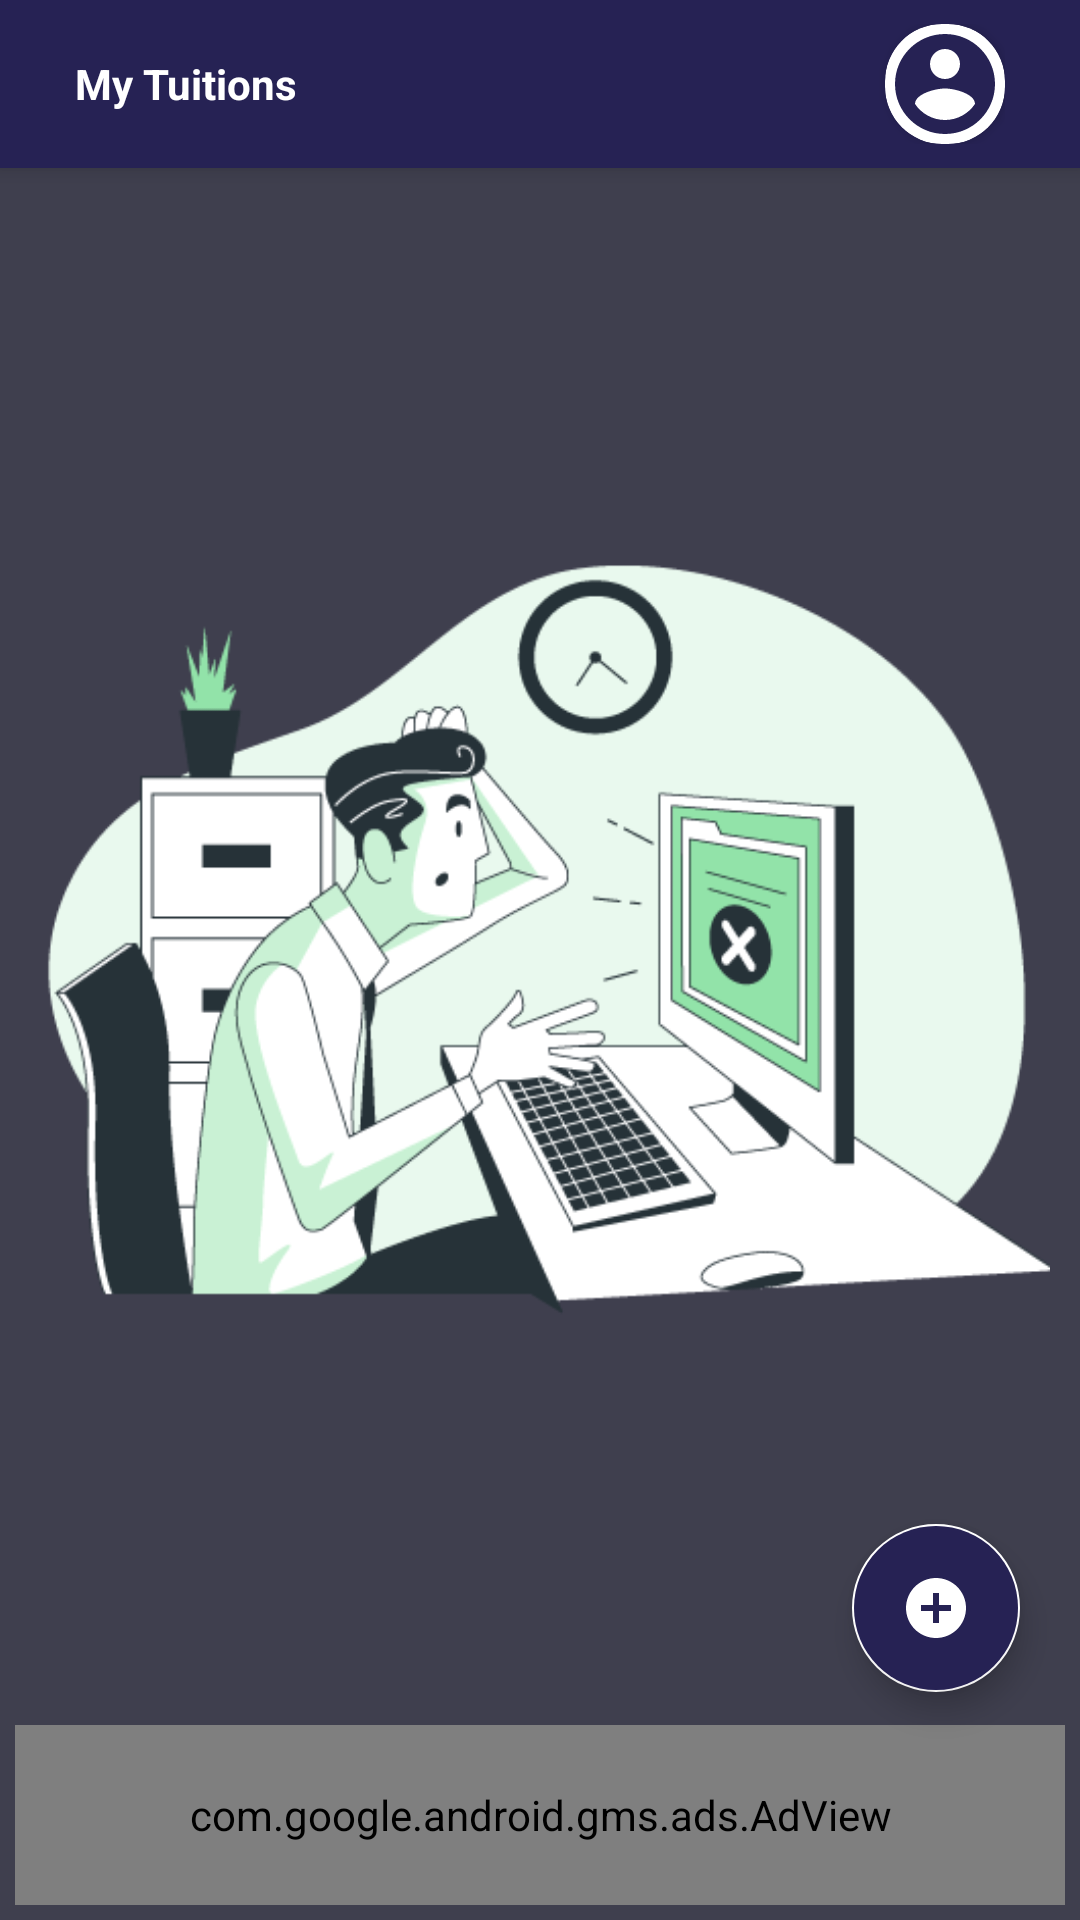

Named icons in this screenshot (1080*1920) and their bounding boxes, (x1, y1, x2, y2):
account circle: (885, 24, 1005, 144)
add circle: (852, 1524, 1020, 1692)
